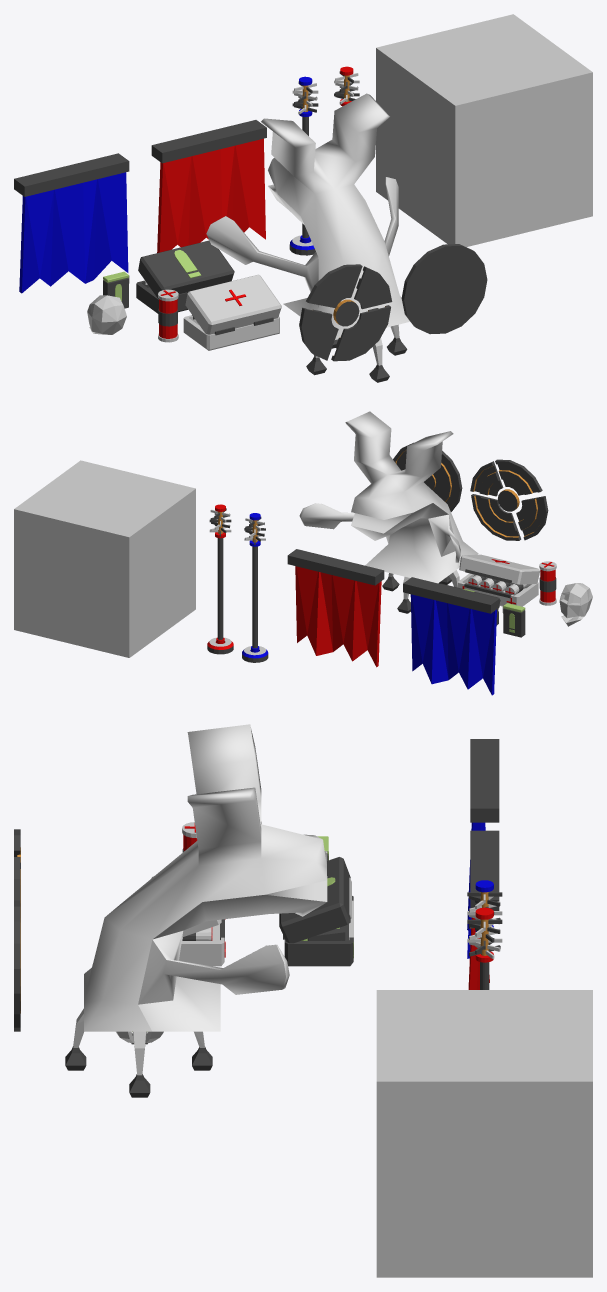
File: Gamemode_Objects.dae
3 views of the same model, one above another, from view 1: azimuth 30°, elevation 25°; view 2: azimuth 150°, elevation 25°; view 3: azimuth 270°, elevation 25° (orthographic). The views are drawn at different scales.
Visible parts, largest first — view 1: TileSize, Turret_Head, Banner_Blue, Banner_Red, Target_whole, Health_Kit, Ammo_Box, Target_broken_piece_3, Target_broken_piece, Target_broken_piece_2, Skull, Target_broken_piece_4 (+6 smaller); view 2: TileSize, Turret_Head, Banner_Red, Banner_Blue, Health_Kit, Target_whole, Target_broken_piece_3, Flag_Red, Flag_Blue, Skull, Target_broken_piece, Target_broken_piece_2 (+5 smaller); view 3: TileSize, Turret_Head, Ammo_Box, Banner_Blue, Turret_base, Banner_Red, Health_Kit, Flag_Red, Target_whole, Flag_Blue.
Boxes of the visible parts, x1,y1,x2,y2 form: TileSize: (376,14,592,246); Turret_Head: (206,93,409,339); Banner_Blue: (14,153,129,293); Banner_Red: (151,120,266,252); Target_whole: (401,244,487,334); Health_Kit: (183,274,281,350); Ammo_Box: (136,240,234,313); Target_broken_piece_3: (331,305,390,361); Target_broken_piece: (306,264,362,308); Target_broken_piece_2: (299,307,338,360); Skull: (87,295,126,334); Target_broken_piece_4: (354,266,392,309); TileSize: (14,460,195,657); Turret_Head: (299,411,478,583); Banner_Red: (287,549,384,667); Banner_Blue: (403,577,499,695); Health_Kit: (458,554,540,606); Target_whole: (393,442,462,511); Target_broken_piece_3: (471,494,521,540); Flag_Red: (209,504,231,643); Flag_Blue: (244,513,265,652); Skull: (559,583,592,626); Target_broken_piece: (495,459,542,495); Target_broken_piece_2: (516,496,548,540); TileSize: (376,990,592,1277); Turret_Head: (84,724,327,1031); Ammo_Box: (279,857,353,966); Banner_Blue: (467,739,499,958); Turret_base: (65,1008,212,1097); Banner_Red: (468,830,499,989); Health_Kit: (151,876,225,966); Flag_Red: (467,907,502,989); Target_whole: (14,900,20,1031); Flag_Blue: (467,880,502,938).
Bounding box in the file's own units: 40.2 × 26.74 × 15.74.
